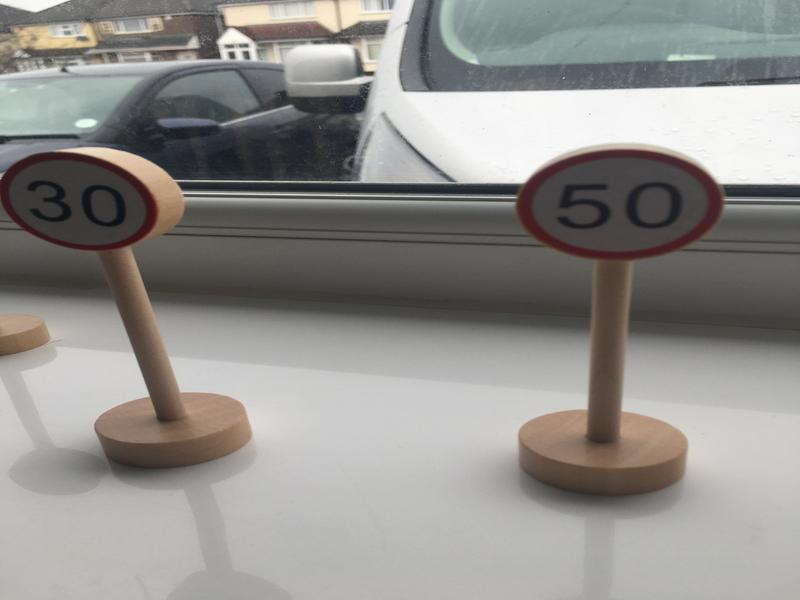Traffic_Sign_30: (1, 151, 158, 248)
Traffic_Sign_50: (517, 149, 723, 257)
